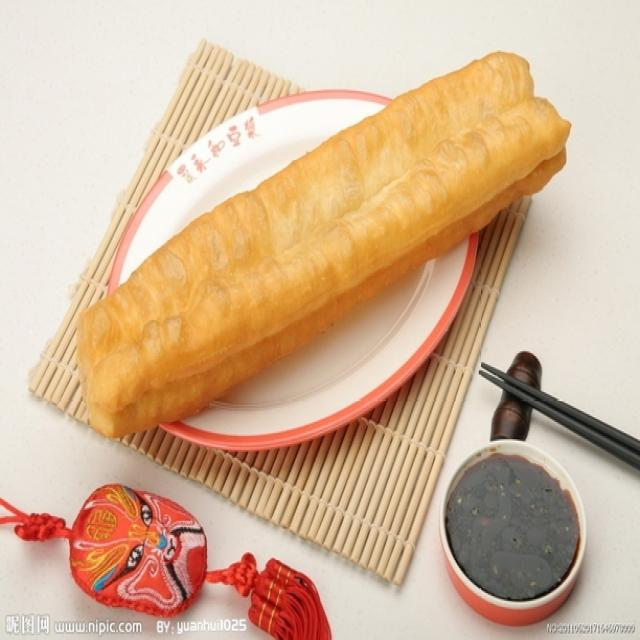炸货点心: (58, 42, 575, 428)
